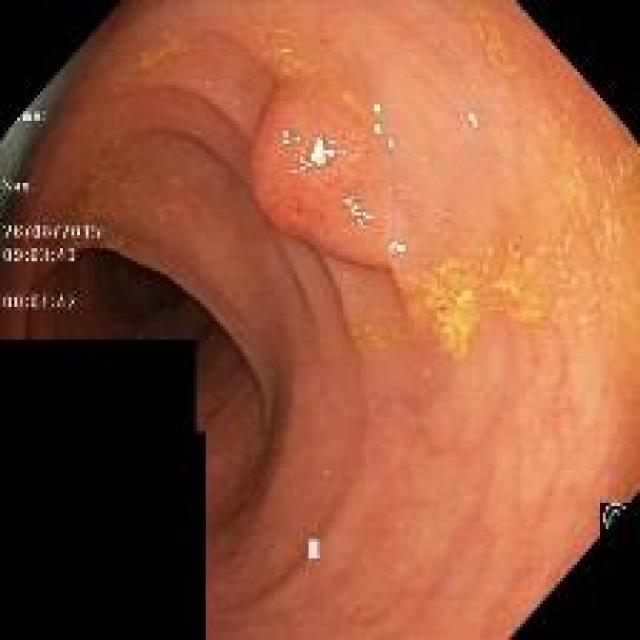Polyps: (251, 81, 392, 266)
